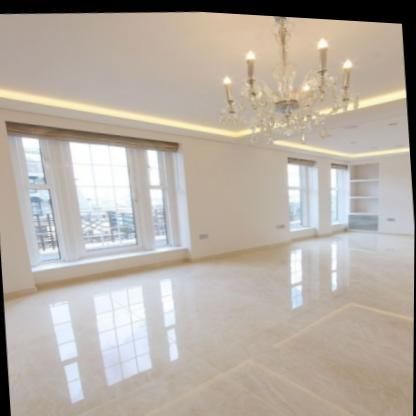Ceramic floor: (6, 230, 415, 416)
Window: (0, 103, 202, 281), (280, 146, 360, 242)
